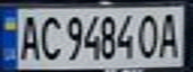4: (115, 11, 139, 61), (81, 11, 103, 61)
8: (100, 11, 118, 61)
9: (60, 12, 84, 62)
A: (15, 11, 42, 62), (157, 9, 184, 60)
C: (36, 11, 63, 62)
O: (136, 10, 163, 60)
